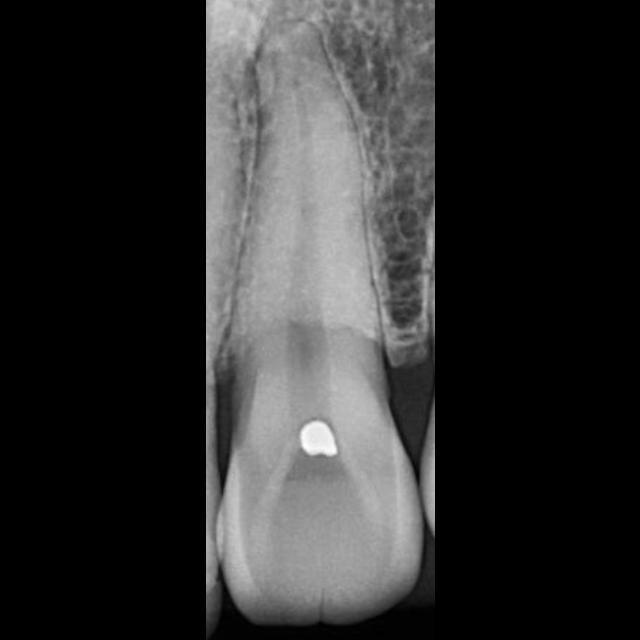tooth: (212, 20, 425, 628)
